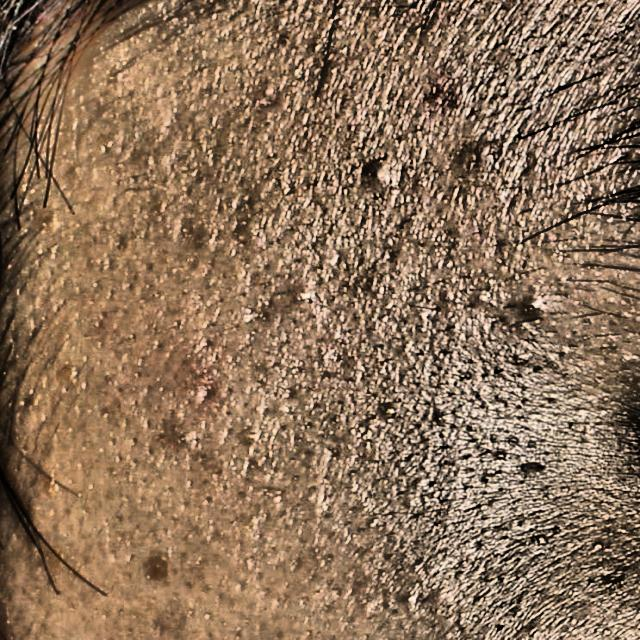whiteheads: (360, 152, 408, 202), (283, 279, 320, 314), (512, 292, 553, 323), (470, 280, 497, 318), (53, 362, 85, 387), (514, 454, 546, 478), (398, 588, 428, 612), (374, 400, 405, 422), (41, 476, 63, 506), (530, 532, 555, 554), (587, 536, 612, 558)
